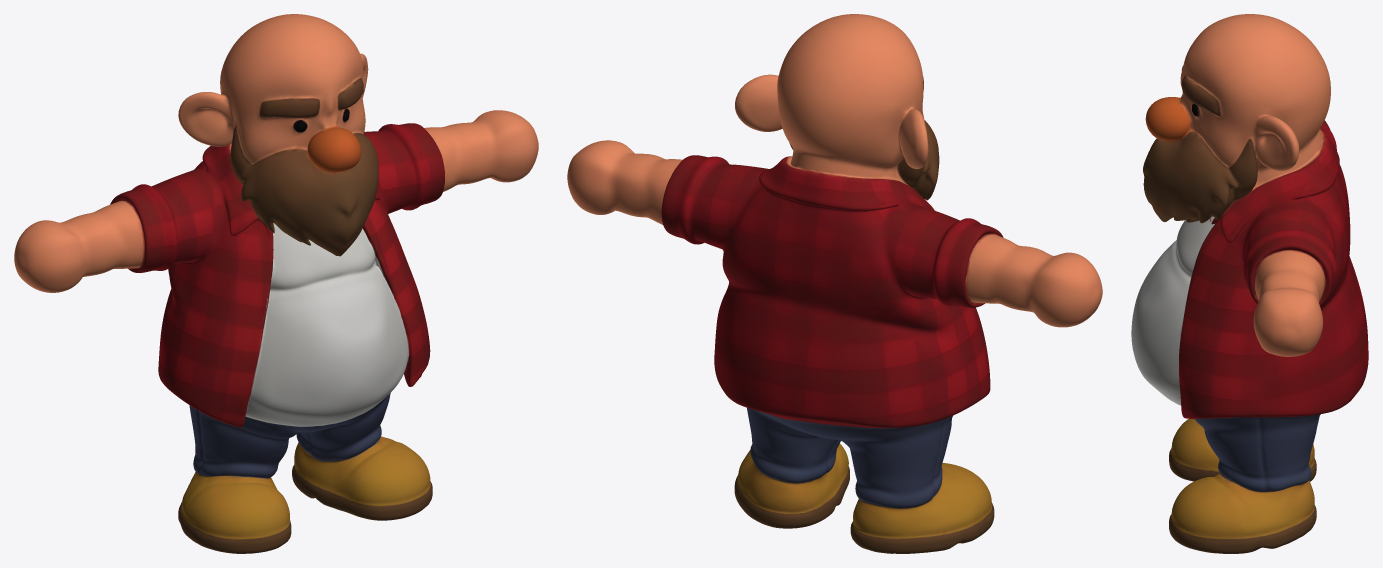
Rendered from source_model.glb.
3 renders of one model, left to right at view 1: azimuth 30°, elevation 25°; view 2: azimuth 150°, elevation 25°; view 3: azimuth 270°, elevation 25°, orthographic. The views are drawn at different scales.
Visible parts, largest first — view 1: tripo_node_d763f329; view 2: tripo_node_d763f329; view 3: tripo_node_d763f329.
Boxes of the visible parts, x1,y1,x2,y2 form: tripo_node_d763f329: (14, 14, 538, 553); tripo_node_d763f329: (567, 14, 1102, 553); tripo_node_d763f329: (1131, 14, 1368, 553).
Size of the model in its own units: 97.97 by 88.06 by 39.53.
Materials: 1 (1 with a texture image).
